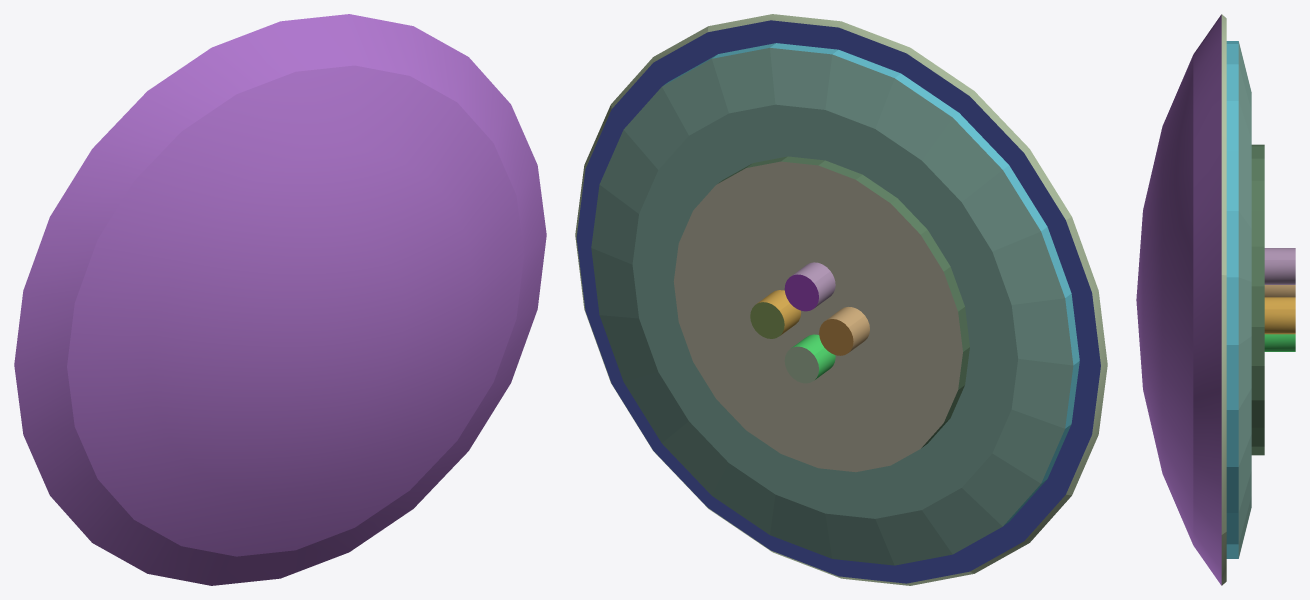
Rendered from module-waapi-01.glb.
3 views of the same model, side by side, from view 1: azimuth 30°, elevation 25°; view 2: azimuth 150°, elevation 25°; view 3: azimuth 270°, elevation 25° (orthographic). The views are drawn at different scales.
Bounding box in the file's own units: 1.86 × 1.86 × 0.5145.
